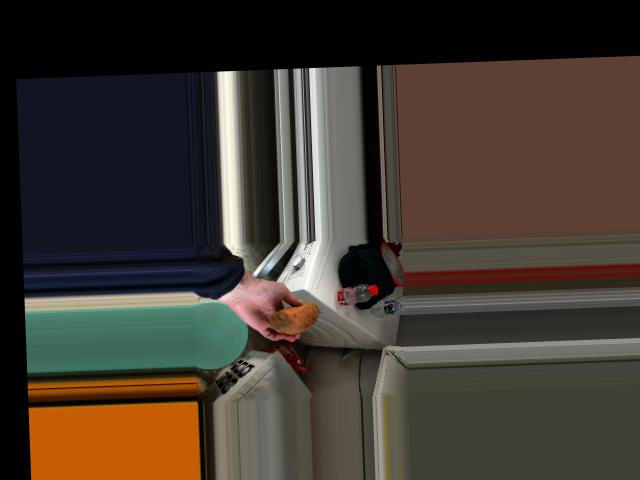sweet_potato: (263, 306, 321, 333)
